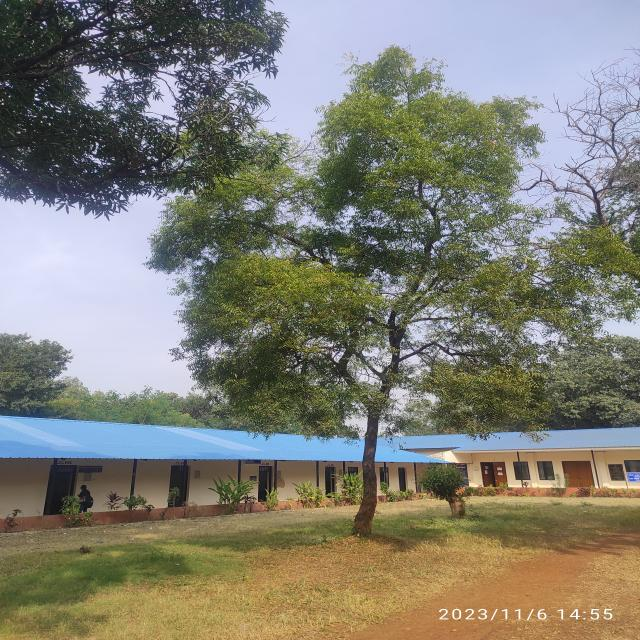Mango Tree: (18, 11, 202, 135)
Neem Tree: (241, 113, 527, 514)
